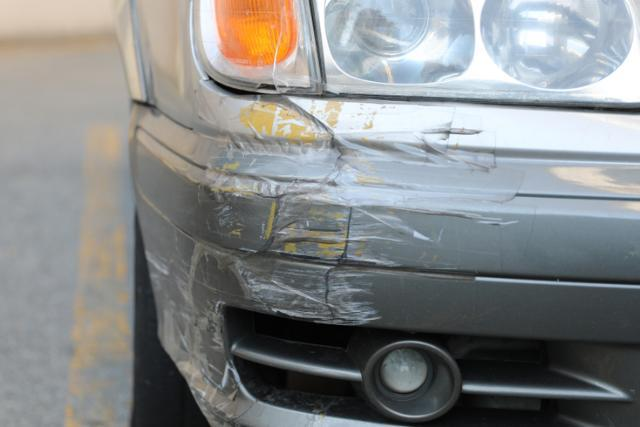Bumper: (121, 69, 545, 427)
